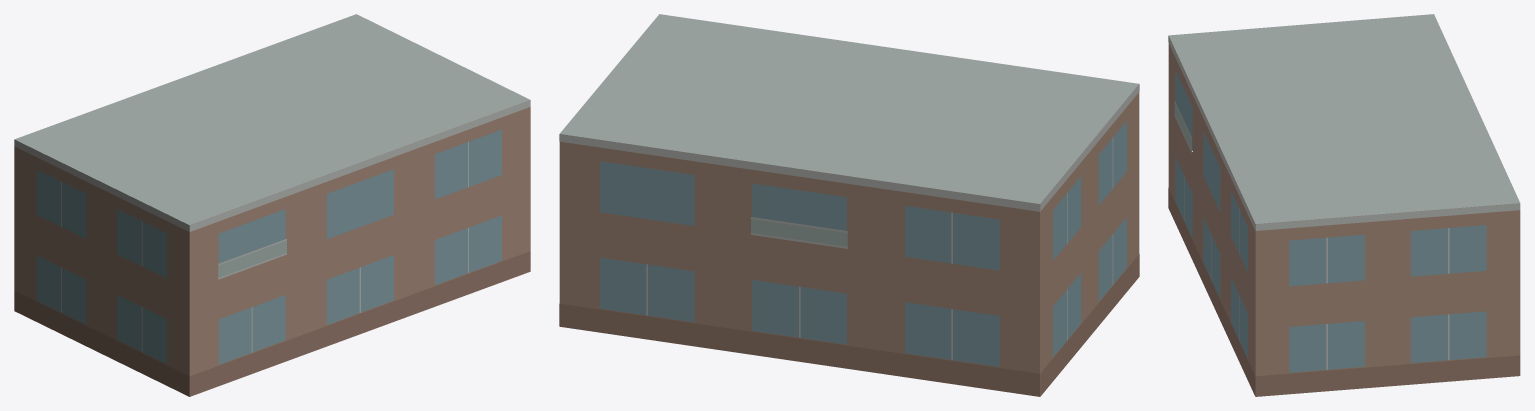
Rendered from survey-upis-32924014.glb.
3 renders of one model, left to right at view 1: azimuth 30°, elevation 25°; view 2: azimuth 150°, elevation 25°; view 3: azimuth 270°, elevation 25°, orthographic. The views are drawn at different scales.
Parts seen in each view (by area): view 1: survey-upis-32924014.tmp; view 2: survey-upis-32924014.tmp; view 3: survey-upis-32924014.tmp.
Boxes of the visible parts, x1,y1,x2,y2 form: survey-upis-32924014.tmp: (14,14,530,396); survey-upis-32924014.tmp: (559,14,1139,396); survey-upis-32924014.tmp: (1168,14,1520,396).
Bounding box in the file's own units: 15.92 × 6.1 × 11.27.
